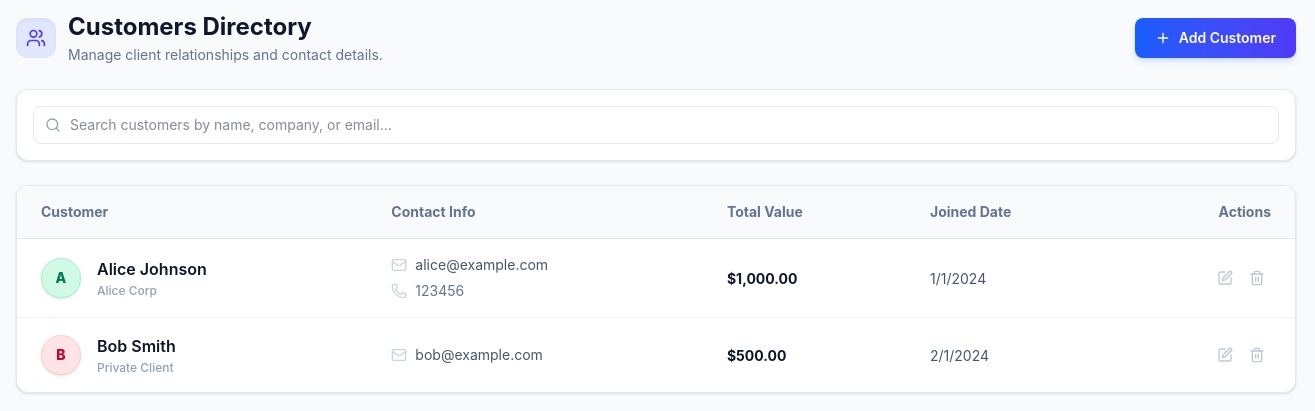
Test: Customers Component › shows empty state when no customers match
Expected: the text "Alice Johnson" is shown, [97,257,207,281]
Type "Nonexistent" into the field with placeholder "Search customers by name, company, or email..." at (656, 125), box [33,106,1279,144]
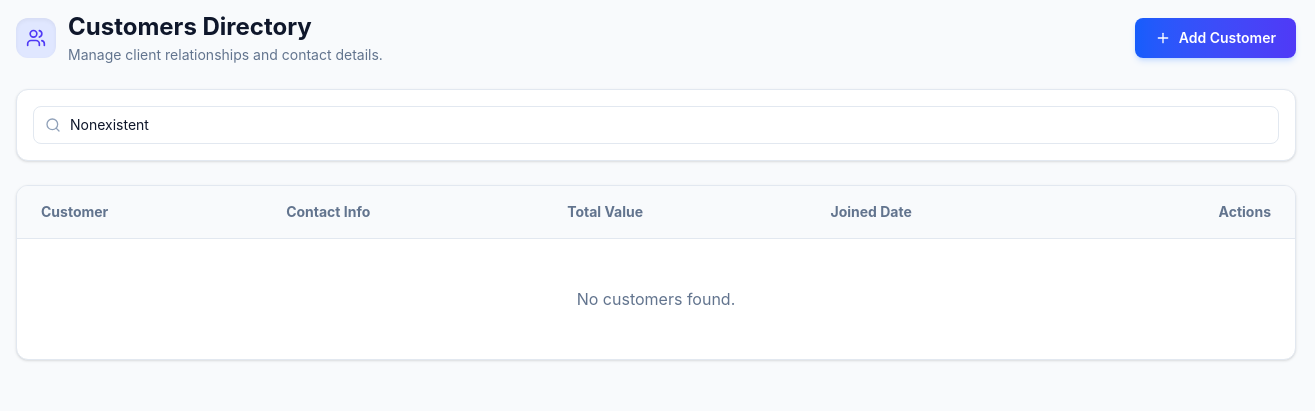
Now the text "No customers found." is shown, box [17,238,1295,359]
